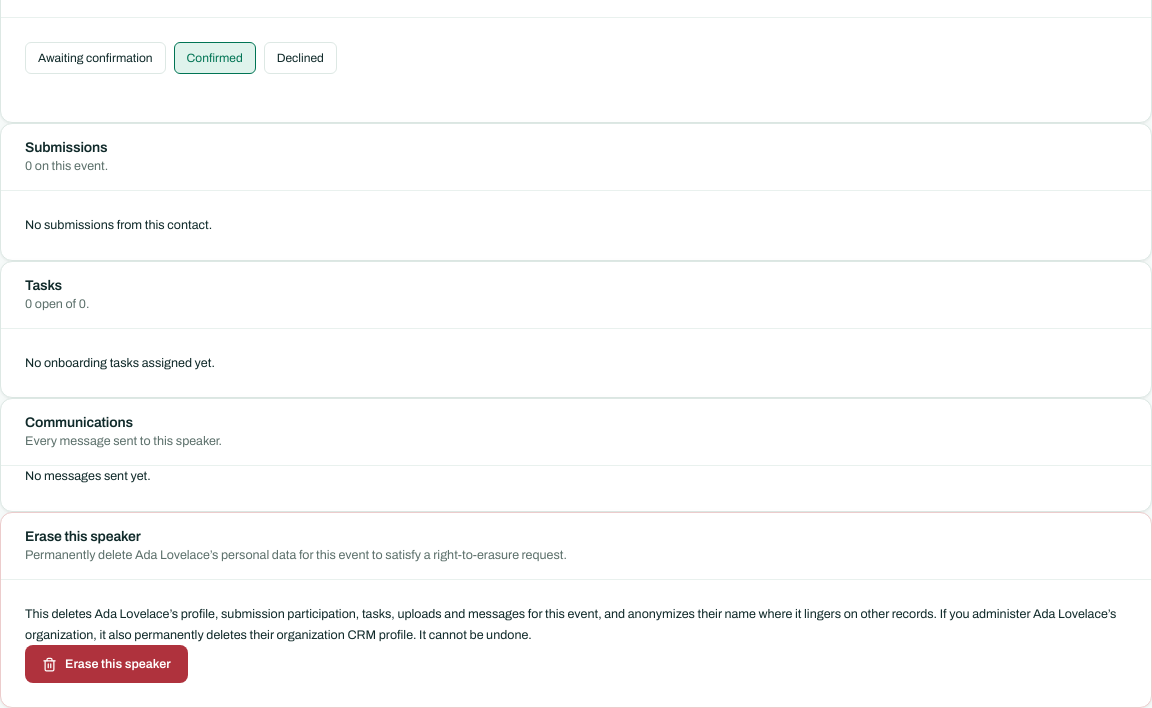
it: erasing a speaker › cancels without deleting anything
(page scrolled)
Step 1. Click the button "Erase this speaker" → (106, 664), box left=25, top=645, right=188, bottom=683
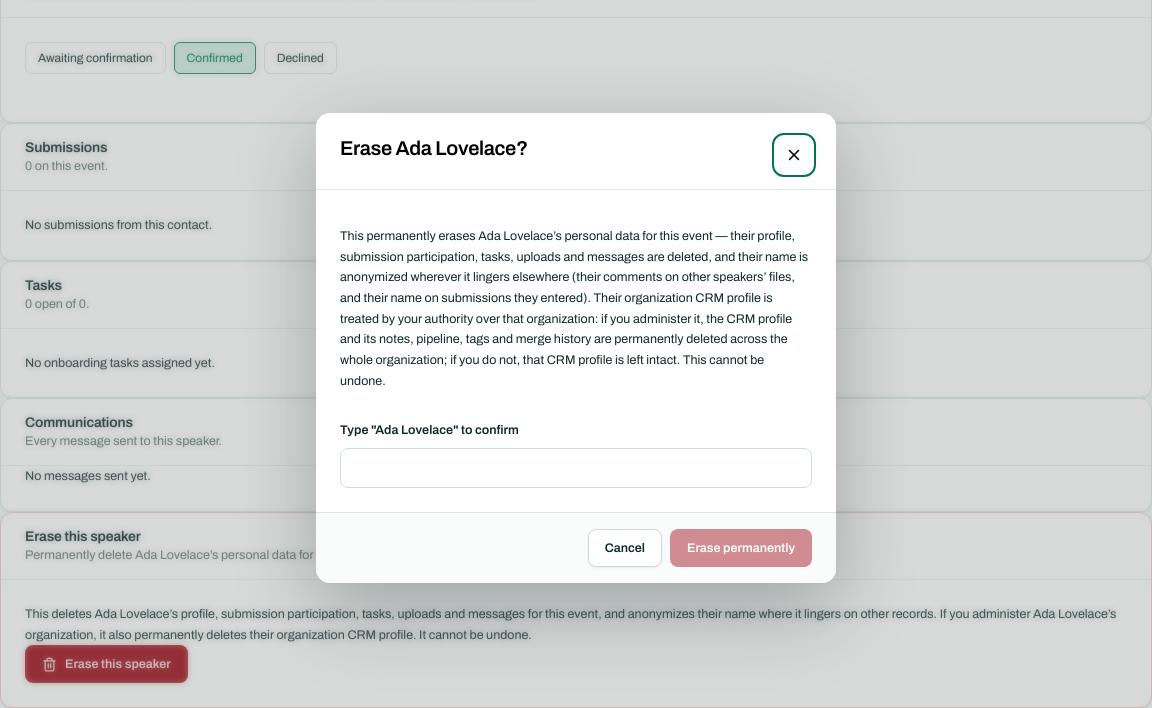
Step 2. Click the button "Cancel" → (625, 548), box left=588, top=529, right=662, bottom=567
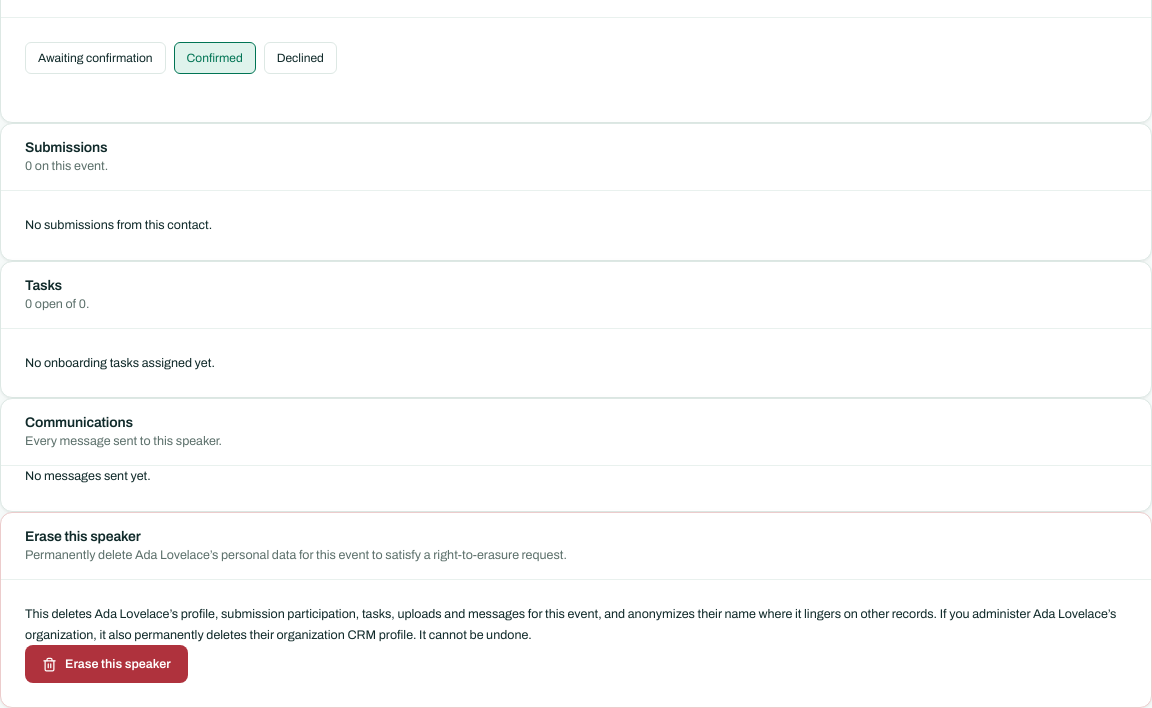
Expected: the text "Erase Ada Lovelace?" is gone
